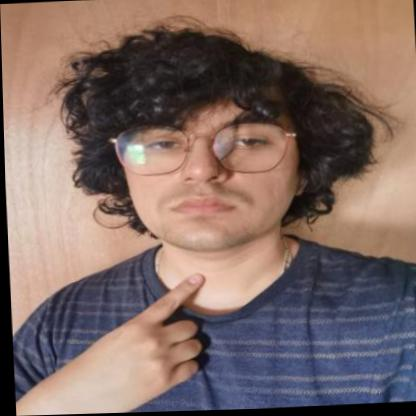Q: (29, 268, 209, 415)
